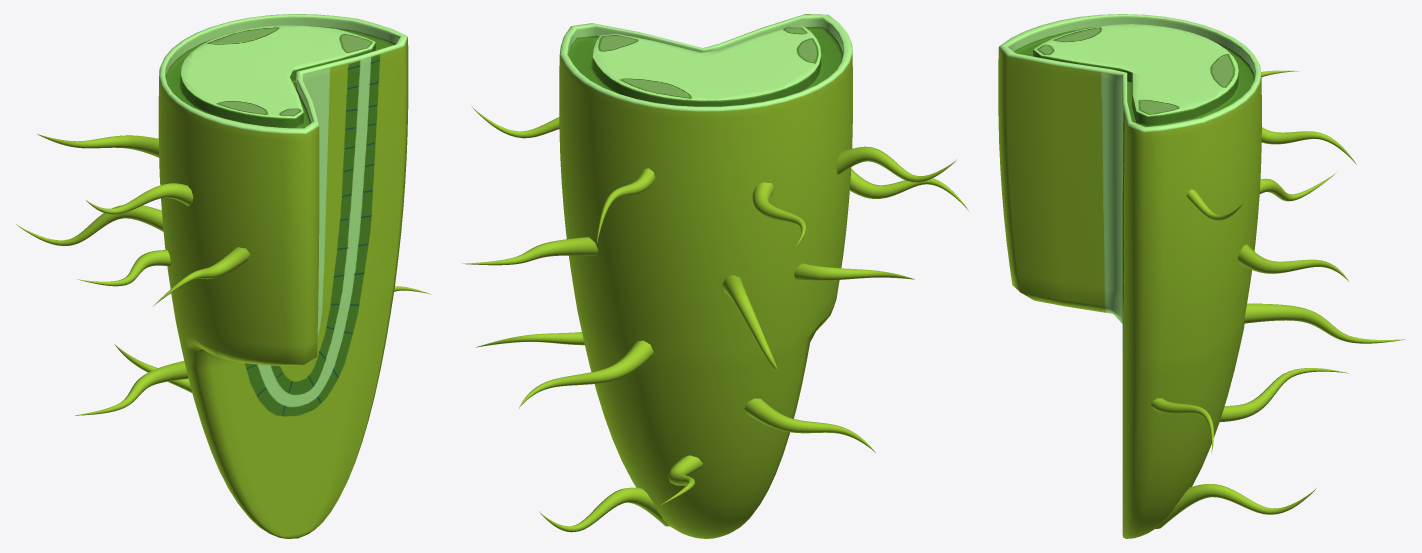
Rendered from Lop11_Rễ cây và cơ chế hấp thụ nước_Tab2_Cắt ngang rễ.glb.
The picture shows the model from 3 angles, left to right: view 1: azimuth 30°, elevation 25°; view 2: azimuth 150°, elevation 25°; view 3: azimuth 270°, elevation 25°; orthographic projection. The views are drawn at different scales.
Parts seen in each view (by area): view 1: pSphere1, sweep15; view 2: pSphere1, sweep15; view 3: pSphere1, sweep15.
Boxes of the visible parts, box(x1,y1,x2,y2) form: pSphere1: box(158, 14, 408, 538); sweep15: box(16, 134, 431, 415); pSphere1: box(559, 14, 852, 538); sweep15: box(462, 105, 968, 532); pSphere1: box(998, 14, 1261, 538); sweep15: box(1151, 70, 1405, 528).
Size of the model in its own units: 0.1706 by 0.1876 by 0.1504.
2 materials, 2 textured.
